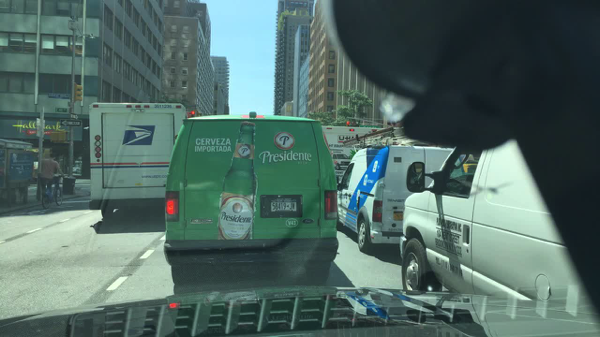bike: (40, 176, 65, 207)
car: (164, 109, 340, 285)
person: (37, 155, 63, 197)
traffic light: (73, 84, 82, 100), (59, 131, 71, 141), (48, 132, 59, 142), (189, 108, 197, 118), (345, 118, 350, 126)
traffic sign: (59, 120, 81, 126), (55, 108, 67, 113), (69, 114, 78, 120)
truck: (399, 136, 600, 316), (337, 128, 453, 254), (88, 103, 184, 220), (322, 123, 382, 197)
